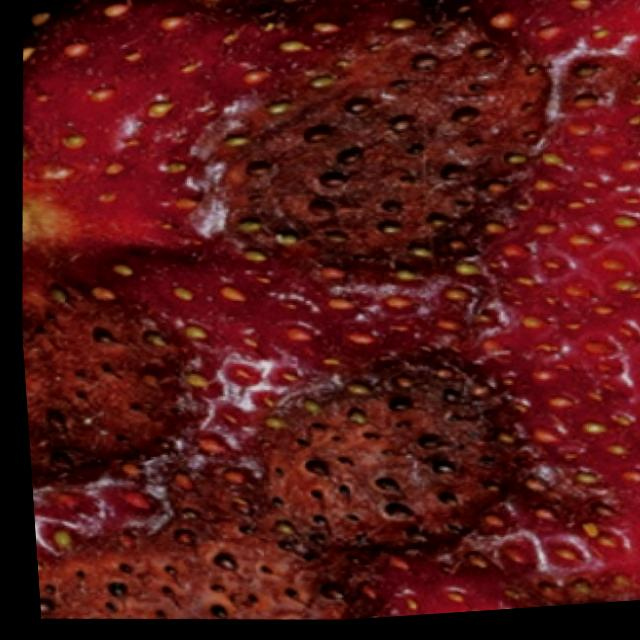Anthracnose Fruit Rot: (16, 0, 640, 624)
